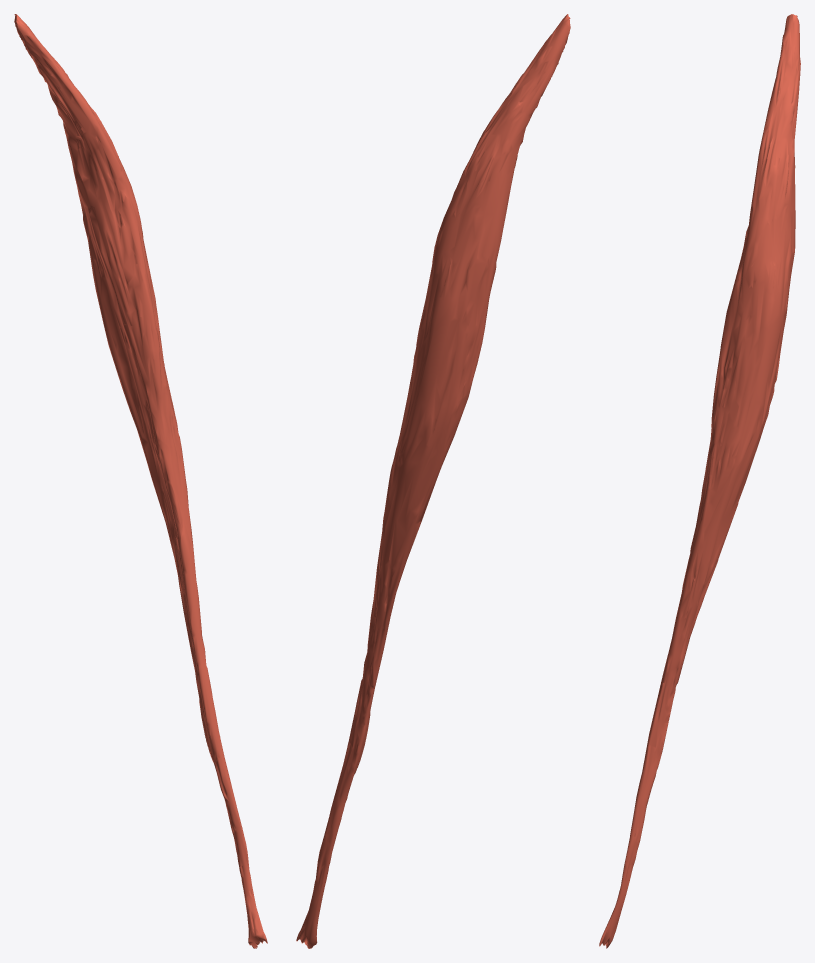
Rendered from extensor-carpi-radialis-longus.glb.
The picture shows the model from 3 angles, left to right: view 1: azimuth 30°, elevation 25°; view 2: azimuth 210°, elevation 25°; view 3: azimuth 270°, elevation 25°; orthographic projection. The views are drawn at different scales.
Parts seen in each view (by area): view 1: Extensor carpi radialis longus.l; view 2: Extensor carpi radialis longus.l; view 3: Extensor carpi radialis longus.l.
Boxes of the visible parts, x1,y1,x2,y2 form: Extensor carpi radialis longus.l: (14,14,267,948); Extensor carpi radialis longus.l: (296,14,570,948); Extensor carpi radialis longus.l: (599,14,800,948).
Bounding box in the file's own units: 0.0597 × 0.3331 × 0.0703.
